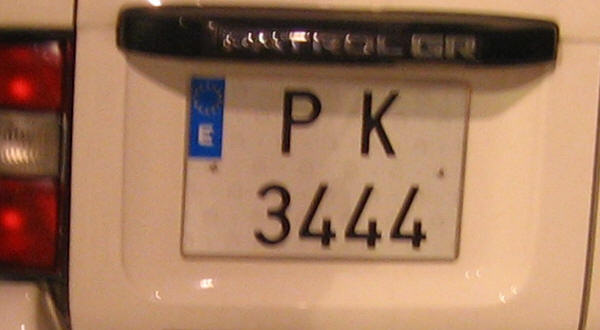license_plate: (182, 77, 472, 260)
